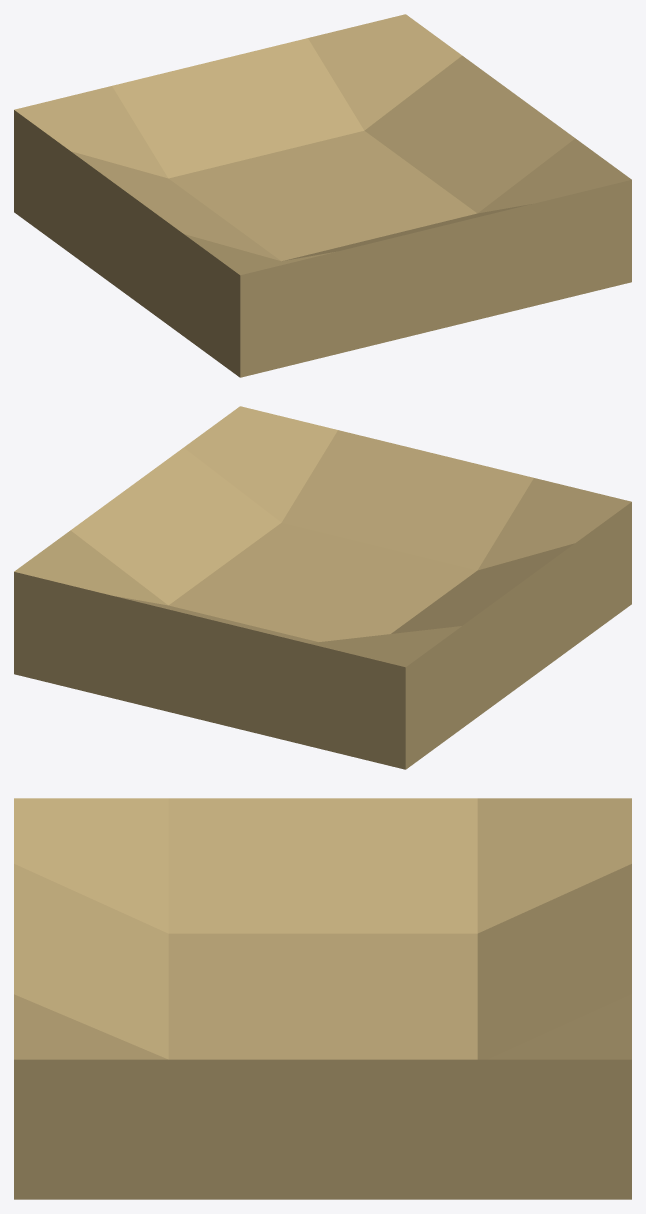
Rendered from GroundPit.fbx.
3 views of the same model, one above another, from view 1: azimuth 30°, elevation 25°; view 2: azimuth 150°, elevation 25°; view 3: azimuth 270°, elevation 25° (orthographic). The views are drawn at different scales.
Parts seen in each view (by area): view 1: Cube.016; view 2: Cube.016; view 3: Cube.016.
Boxes of the visible parts, x1,y1,x2,y2 form: Cube.016: [14, 14, 631, 377]; Cube.016: [14, 406, 631, 769]; Cube.016: [14, 798, 631, 1199].
Bounding box in the file's own units: 800 × 200 × 800.
